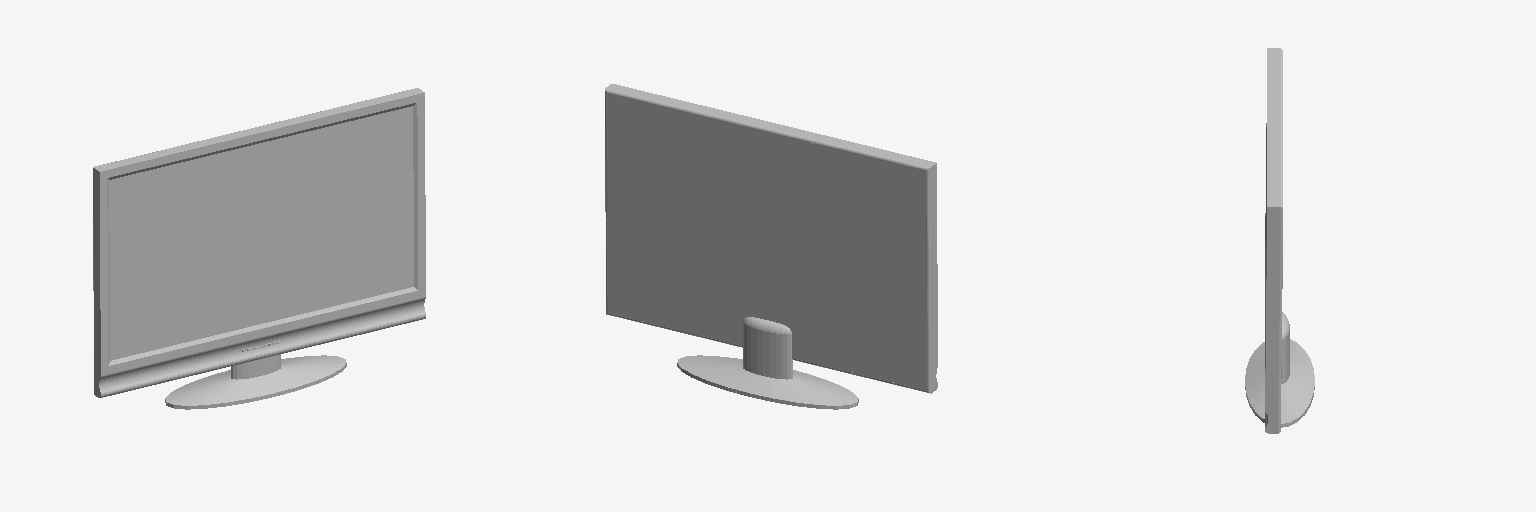
The picture shows the model from 3 angles: view 1: azimuth 30°, elevation 25°; view 2: azimuth 150°, elevation 25°; view 3: azimuth 270°, elevation 25°; orthographic projection.
Parts seen in each view (by area): view 1: Layer0_001, Component_1_001; view 2: Layer0_001, Component_1_001; view 3: Layer0_001, Component_1_001.
Part boxes in pixels (x1,y1,x2,y2): Layer0_001: (93, 88, 425, 397); Component_1_001: (165, 354, 346, 409); Layer0_001: (605, 84, 937, 393); Component_1_001: (677, 317, 858, 409); Layer0_001: (1265, 48, 1282, 433); Component_1_001: (1245, 312, 1314, 427).
Bounding box in the file's own units: 900 × 679 × 168.